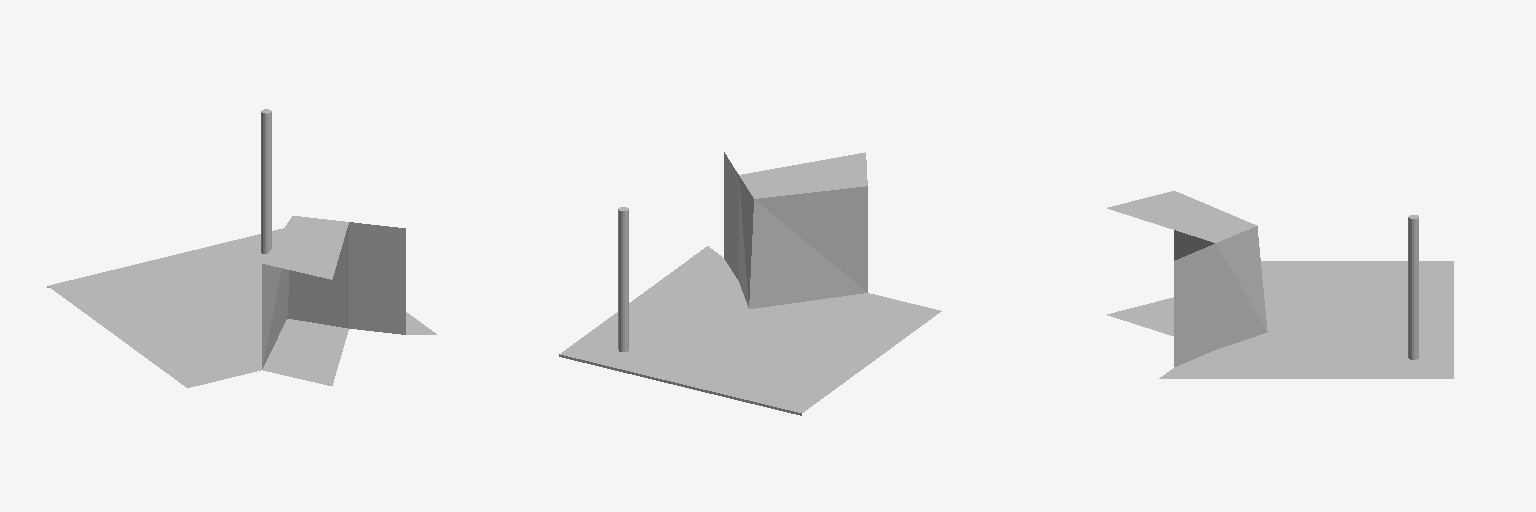
The model's file is city_carls_s.obj.
3 renders of one model, left to right at view 1: azimuth 30°, elevation 25°; view 2: azimuth 150°, elevation 25°; view 3: azimuth 270°, elevation 25°, orthographic.
Visible parts, largest first — view 1: city_carls_s_Plane.015; view 2: city_carls_s_Plane.015; view 3: city_carls_s_Plane.015.
Part boxes in pixels (x1,y1,x2,y2): city_carls_s_Plane.015: (47, 109, 436, 387); city_carls_s_Plane.015: (559, 152, 941, 415); city_carls_s_Plane.015: (1107, 191, 1453, 378).
Bounding box in the file's own units: 1.6 × 0.9679 × 1.99.